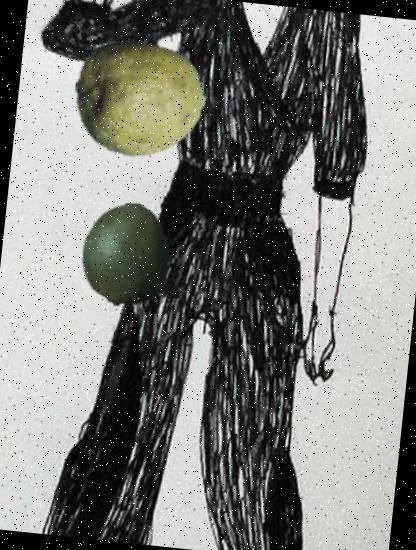Limes: (68, 22, 212, 166)
Mango: (68, 198, 182, 312)
